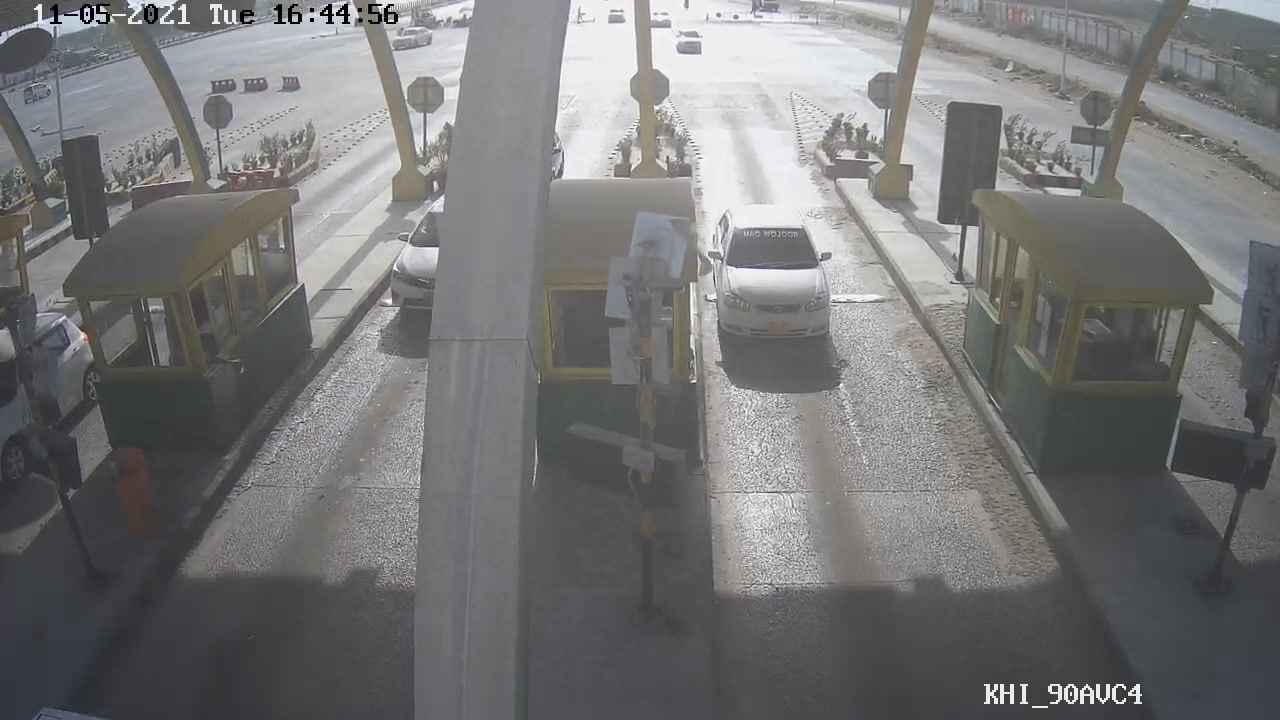F1: (702, 203, 837, 352)
